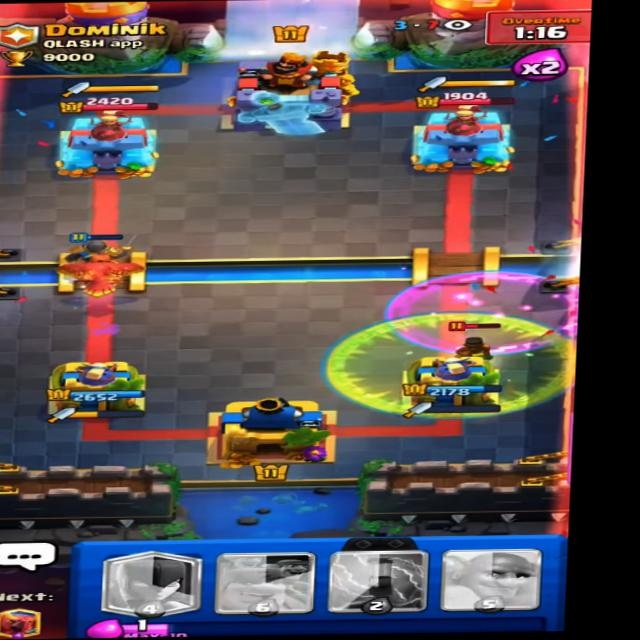Ramrider: (443, 315, 512, 370)
